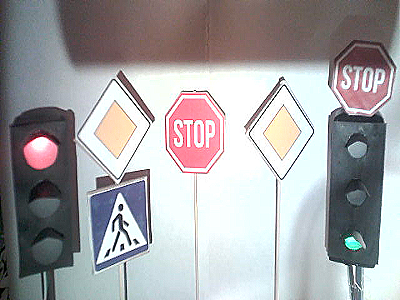crosswalk: (94, 188, 147, 265)
priority_road: (77, 78, 150, 183), (249, 83, 314, 178)
stop: (166, 92, 224, 174), (332, 41, 394, 116)
trafficlight_green: (331, 121, 378, 263)
trafficlight_red: (14, 123, 70, 267)
